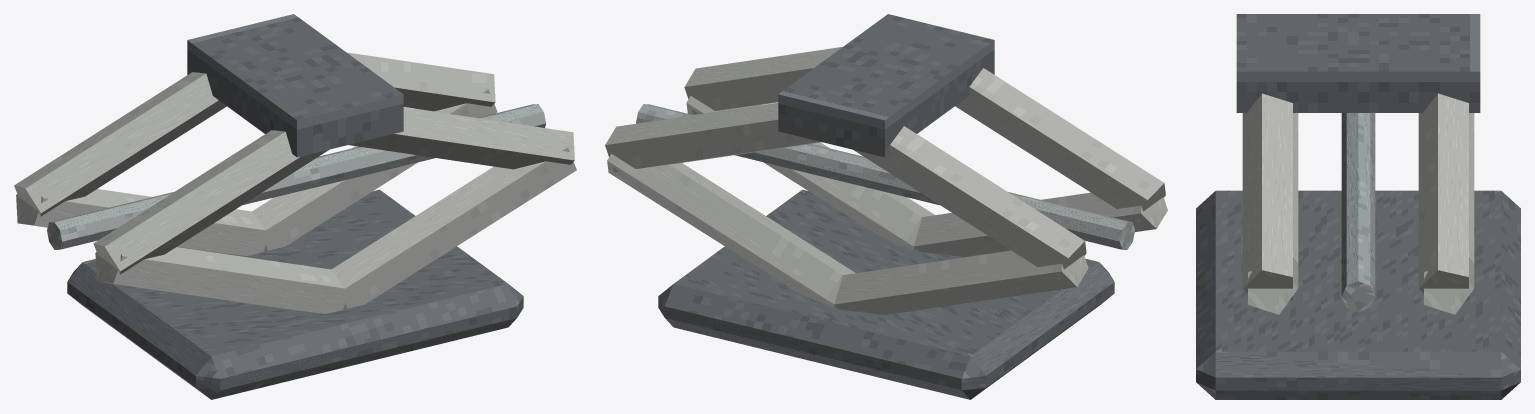
The model's file is jack_small.glb.
3 renders of one model, left to right at view 1: azimuth 30°, elevation 25°; view 2: azimuth 150°, elevation 25°; view 3: azimuth 270°, elevation 25°, orthographic. The views are drawn at different scales.
Visible parts, largest first — view 1: block_jack base, block_lifting linked arm 3 (×2), block_top saddle, block_lifting linked arm 1 (×2), block_lifting linked arm 0 (×2), block_lifting linked arm 2 (×2), block_lead screw; view 2: block_jack base, block_lifting linked arm 3 (×2), block_top saddle, block_lifting linked arm 1 (×2), block_lifting linked arm 0 (×2), block_lifting linked arm 2 (×2), block_lead screw; view 3: block_jack base, block_top saddle, block_lifting linked arm 2 (×2), block_lead screw, block_lifting linked arm 1 (×2), block_lifting linked arm 0 (×2).
Part boxes in pixels (x1=…): block_jack base: x1=67, y1=189, x2=523, y2=399; block_lifting linked arm 3 (×2): x1=14, y1=72, x2=328, y2=274; block_top saddle: x1=187, y1=14, x2=403, y2=157; block_lifting linked arm 1 (×2): x1=252, y1=87, x2=576, y2=308; block_lifting linked arm 0 (×2): x1=16, y1=189, x2=349, y2=313; block_lifting linked arm 2 (×2): x1=347, y1=52, x2=574, y2=169; block_lead screw: x1=47, y1=104, x2=545, y2=249; block_jack base: x1=658, y1=189, x2=1114, y2=399; block_lifting linked arm 3 (×2): x1=853, y1=68, x2=1165, y2=280; block_top saddle: x1=778, y1=14, x2=994, y2=157; block_lifting linked arm 1 (×2): x1=607, y1=96, x2=935, y2=308; block_lifting linked arm 0 (×2): x1=834, y1=192, x2=1167, y2=314; block_lifting linked arm 2 (×2): x1=605, y1=47, x2=842, y2=172; block_lead screw: x1=636, y1=104, x2=1134, y2=249; block_jack base: x1=1196, y1=190, x2=1520, y2=399; block_top saddle: x1=1236, y1=14, x2=1480, y2=112; block_lifting linked arm 2 (×2): x1=1242, y1=93, x2=1468, y2=300; block_lead screw: x1=1341, y1=113, x2=1375, y2=311; block_lifting linked arm 1 (×2): x1=1248, y1=257, x2=1474, y2=314; block_lifting linked arm 0 (×2): x1=1293, y1=113, x2=1474, y2=263.
Bounding box in the file's own units: 0.14 × 0.0689 × 0.0734.
Materials: 1 (1 with a texture image).
